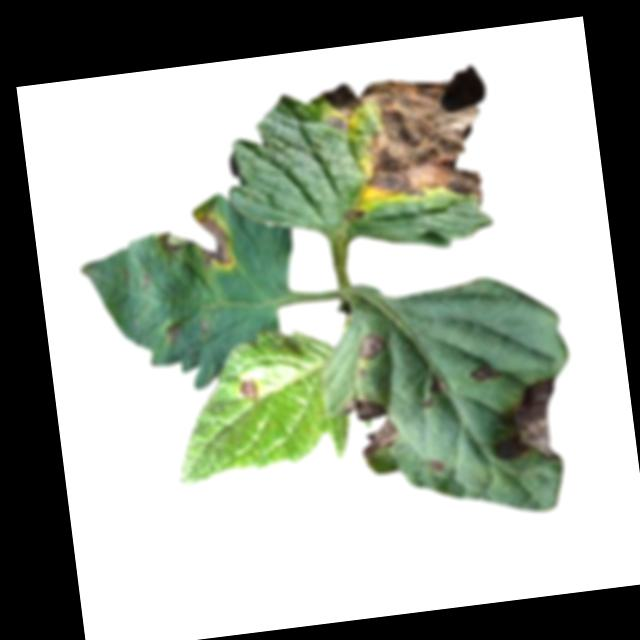Early_blight: (316, 63, 503, 223), (486, 372, 568, 468), (151, 202, 235, 277), (338, 388, 401, 459), (417, 376, 450, 410), (352, 329, 386, 360), (469, 357, 499, 384), (239, 377, 260, 401), (161, 321, 182, 341), (427, 454, 443, 473)
